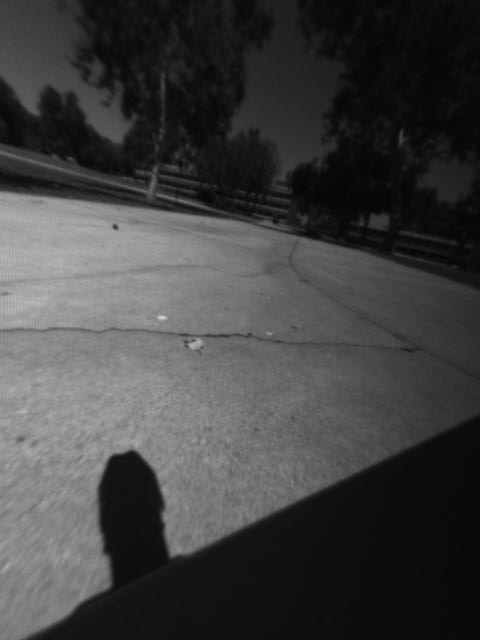dogtoy: (104, 216, 129, 238)
